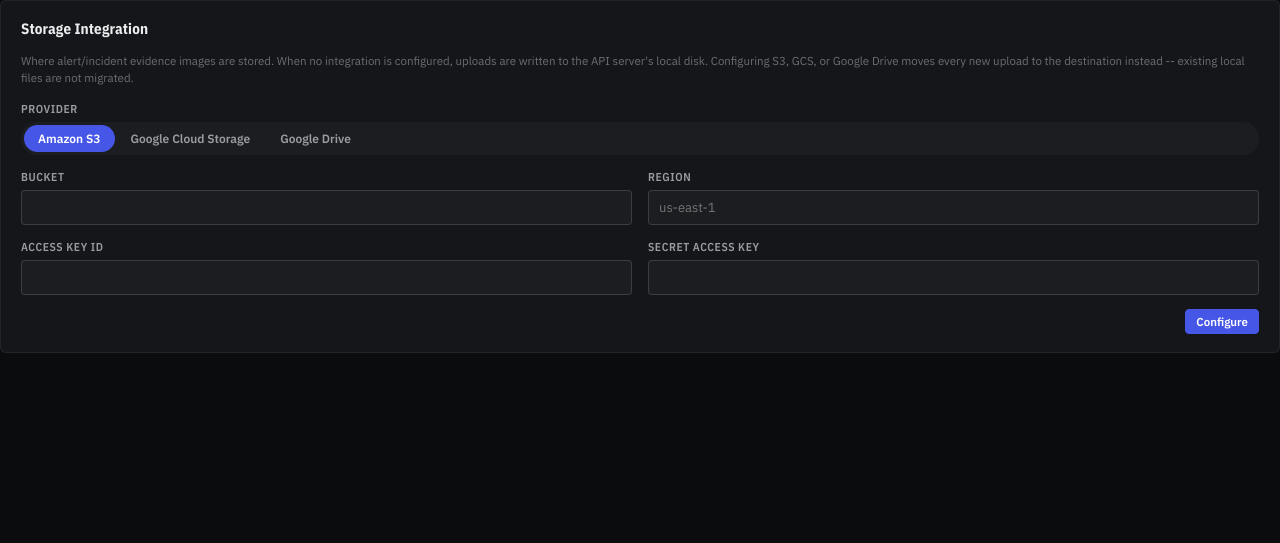
Scenario: StorageIntegrationPanel › switching to the Google Drive tab defaults to the service account sub-method
Expected: the field labelled "Bucket" is shown, [21, 190, 632, 224]
Click the button "Google Drive" at (316, 138), box [266, 124, 365, 152]
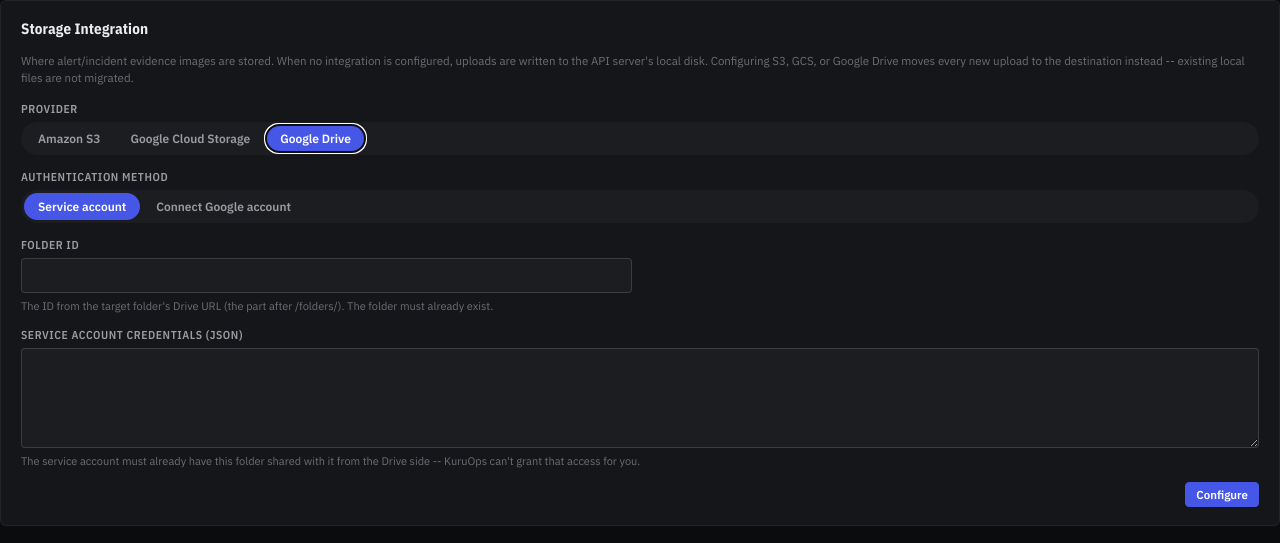
Expected: the field labelled "Folder ID" is shown, [21, 258, 632, 292]
Expected: the text box labelled "Service Account Credentials (JSON)" is shown, [21, 348, 1259, 448]
